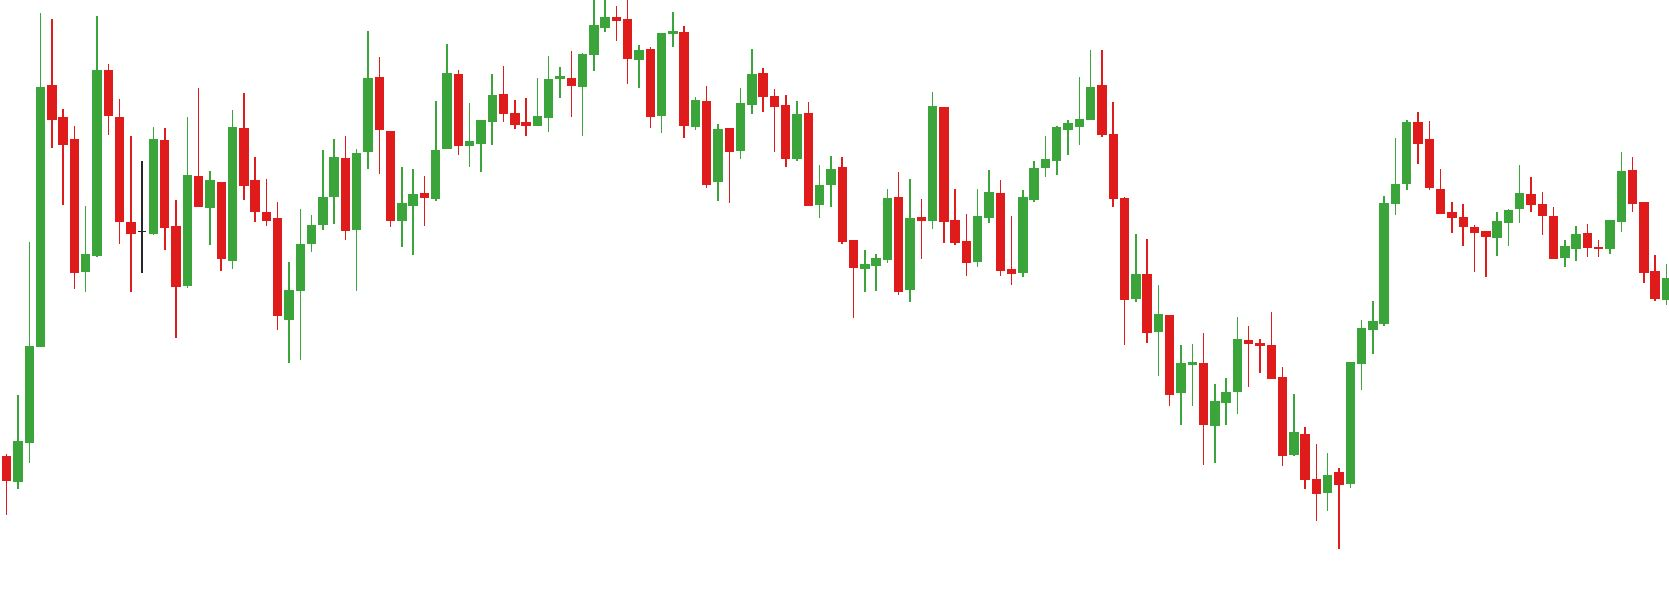buy: (170, 179, 295, 366)
sell: (924, 49, 1109, 208), (1511, 155, 1635, 246)
